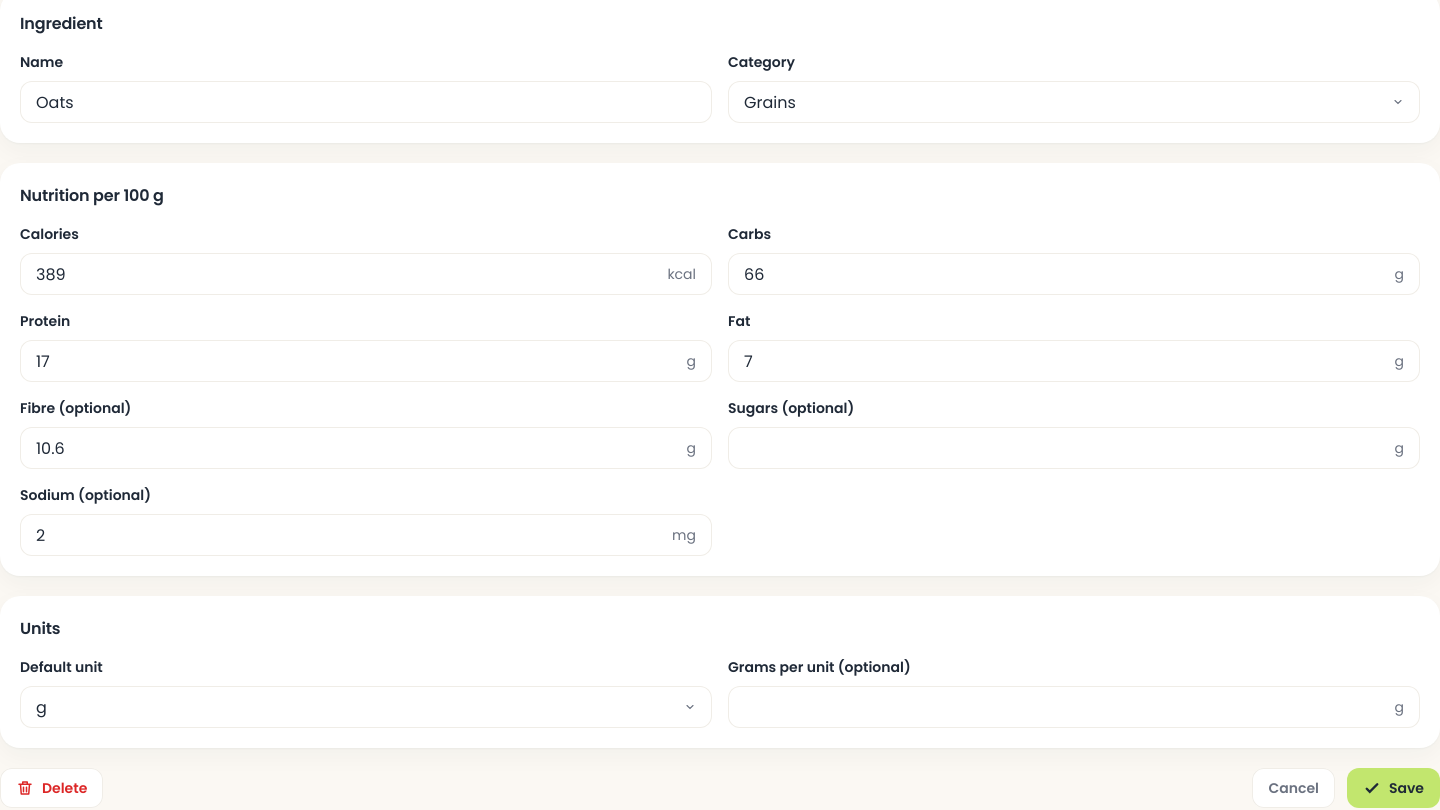
IngredientsPage /ingredients/:id (edit) › AC-9: a 409 delete shows the blocking recipes and keeps the ingredient
This screenshot has width=1440, height=810.
(page scrolled)
Click the button "Delete" at {"x": 52, "y": 788}, box [0,768,103,808]
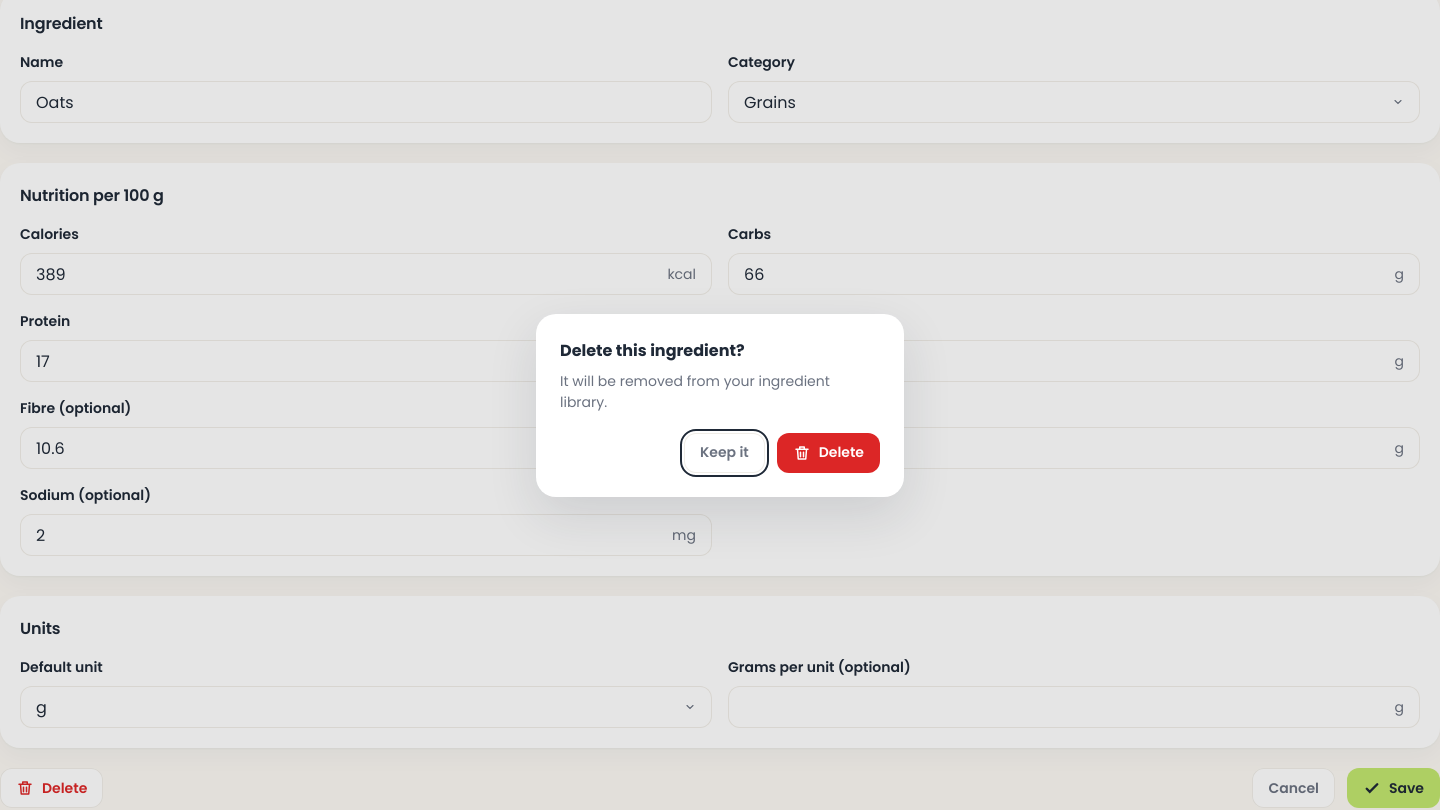
Click the button "Delete" at {"x": 828, "y": 452}, box [777,432,880,472]
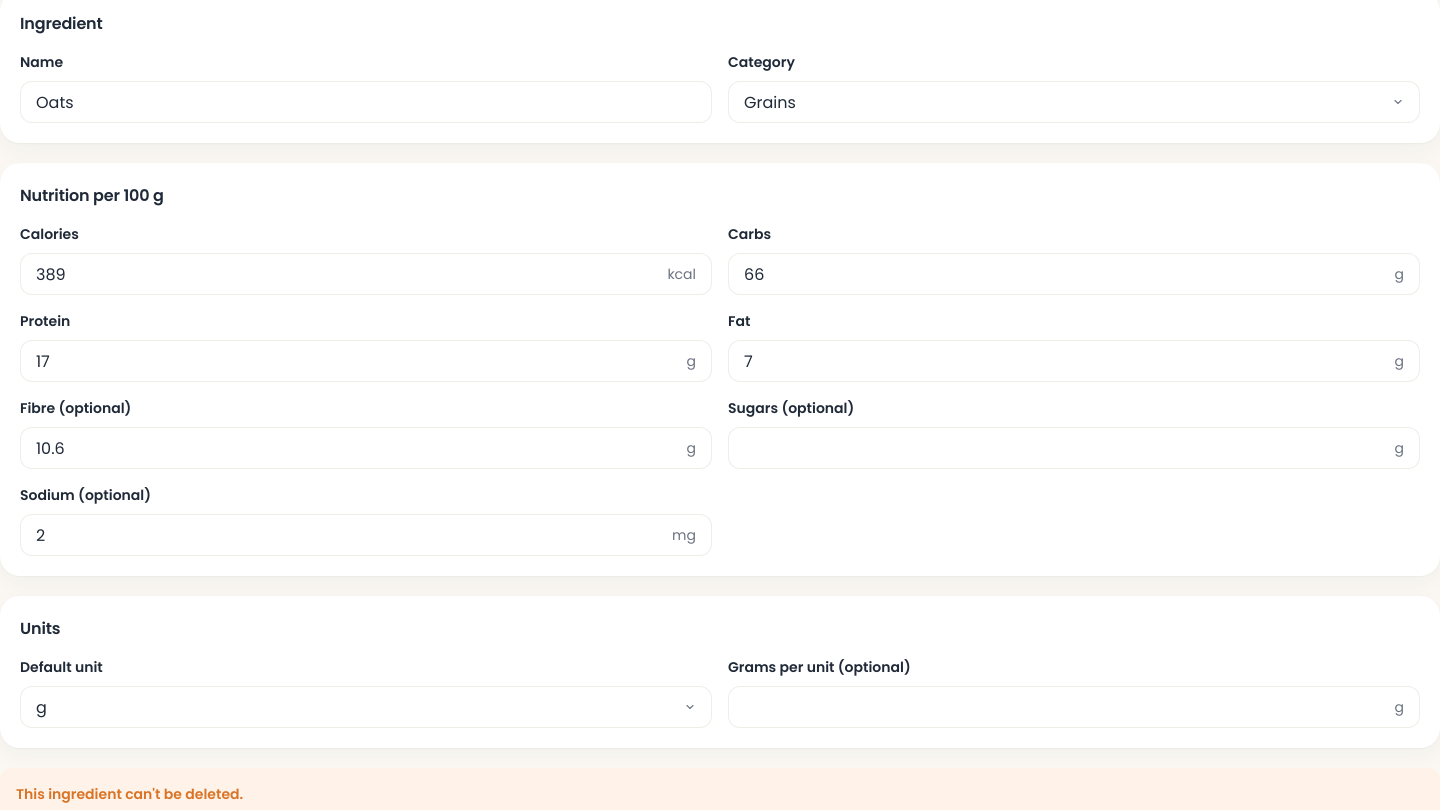
Result: the text "This ingredient can't be deleted." is shown at [16,784,243,804]
